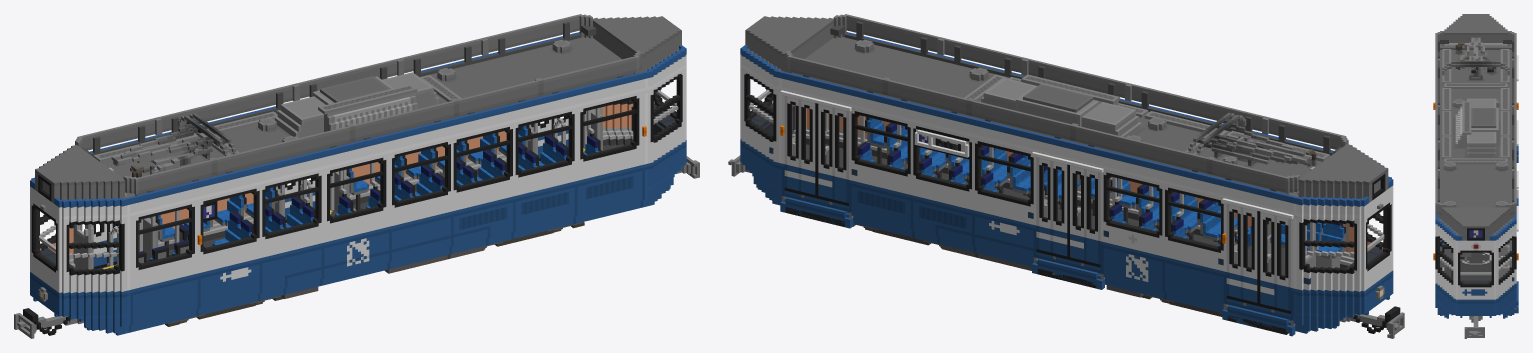
The model's file is tram20002pony.obj.
3 views of the same model, side by side, from view 1: azimuth 30°, elevation 25°; view 2: azimuth 150°, elevation 25°; view 3: azimuth 270°, elevation 25° (orthographic). The views are drawn at different scales.
Parts seen in each view (by area): view 1: FRAME, INTERIOR, WIDGET_23_TL_1.9375_Y_CG_panto1_LABEL_Pantograph, WIDGET_25_TL_1.9375_Y_CG_panto1_LABEL_Pantograph, DOOR_21_INTERIOR; view 2: FRAME, INTERIOR, DOOR_1_CG_df, DOOR_41_CG_dr, DOOR_3_EXTERNAL_CG_df_TL_0.625_X, DOOR_42_EXTERNAL_CG_dr_TL_-0.625_X, DOOR_43_EXTERNAL_CG_dr_TL_0.625_X, DOOR_44_CG_dr, DOOR_14_CG_dm, DOOR_4_CG_df, DOOR_13_EXTERNAL_CG_dm_TL_0.625_X, DOOR_2_EXTERNAL_CG_df_TL_-0.625_X (+7 smaller); view 3: FRAME, INTERIOR, WIDGET_25_TL_1.9375_Y_CG_panto1_LABEL_Pantograph, WIDGET_23_TL_1.9375_Y_CG_panto1_LABEL_Pantograph, displays_INTERIOR, WIDGET_22_CG_panto1_LABEL_Pantograph.
Boxes of the visible parts, box(x1,y1,x2,y2) form: FRAME: box(14, 14, 699, 338); INTERIOR: box(36, 79, 679, 271); WIDGET_23_TL_1.9375_Y_CG_panto1_LABEL_Pantograph: box(111, 123, 213, 164); WIDGET_25_TL_1.9375_Y_CG_panto1_LABEL_Pantograph: box(178, 113, 237, 156); DOOR_21_INTERIOR: box(73, 224, 93, 269); FRAME: box(728, 14, 1404, 338); INTERIOR: box(747, 79, 1387, 275); DOOR_1_CG_df: box(1274, 215, 1288, 313); DOOR_41_CG_dr: box(832, 107, 846, 205); DOOR_3_EXTERNAL_CG_df_TL_0.625_X: box(1243, 207, 1257, 305); DOOR_42_EXTERNAL_CG_dr_TL_-0.625_X: box(818, 104, 832, 201); DOOR_43_EXTERNAL_CG_dr_TL_0.625_X: box(801, 99, 815, 197); DOOR_44_CG_dr: box(787, 96, 801, 194); DOOR_14_CG_dm: box(1039, 157, 1053, 255); DOOR_4_CG_df: box(1229, 204, 1243, 302); DOOR_13_EXTERNAL_CG_dm_TL_0.625_X: box(1053, 161, 1067, 259); DOOR_2_EXTERNAL_CG_df_TL_-0.625_X: box(1260, 211, 1274, 309); FRAME: box(1433, 14, 1518, 338); INTERIOR: box(1437, 239, 1514, 284); WIDGET_25_TL_1.9375_Y_CG_panto1_LABEL_Pantograph: box(1442, 61, 1509, 75); WIDGET_23_TL_1.9375_Y_CG_panto1_LABEL_Pantograph: box(1462, 37, 1489, 61); displays_INTERIOR: box(1469, 230, 1482, 237); WIDGET_22_CG_panto1_LABEL_Pantograph: box(1473, 37, 1475, 71).
Bounding box in the file's own units: 15 × 3.75 × 2.38.
1 material, 1 textured.
